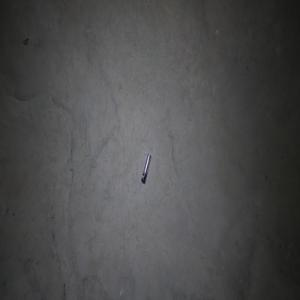Battery: (141, 152, 151, 184)
